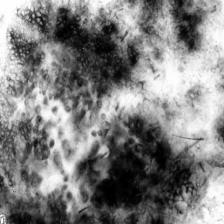Benign Marking or Mole: (0, 0, 195, 224), (92, 114, 168, 214)
